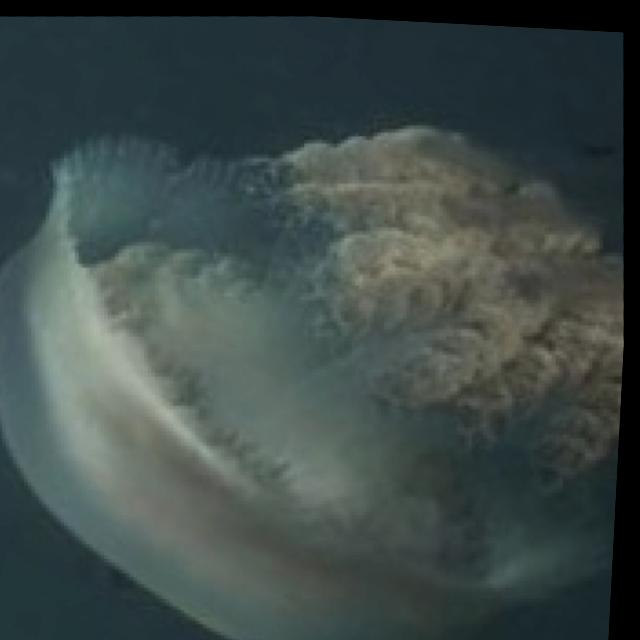Jellyfish: (0, 92, 636, 640)
